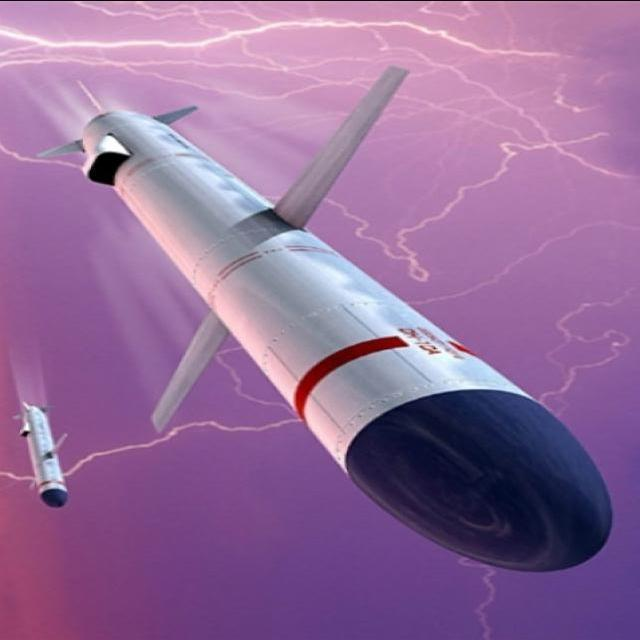missile: (62, 87, 610, 564), (16, 394, 57, 522)
